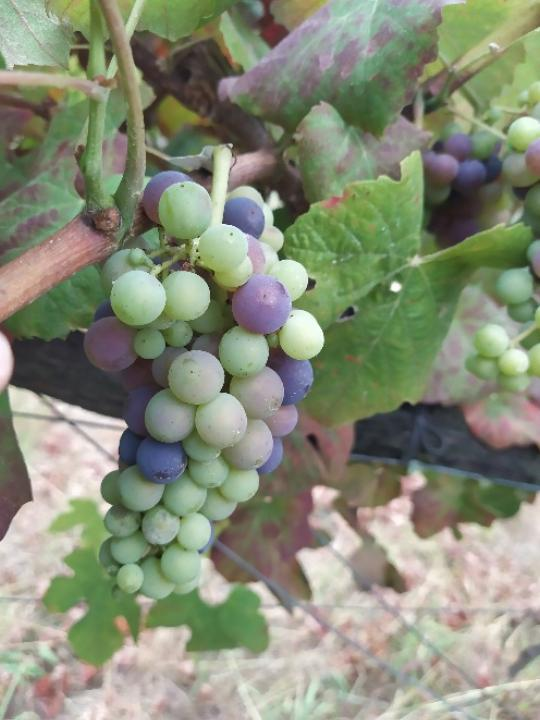grape: (80, 168, 328, 606)
